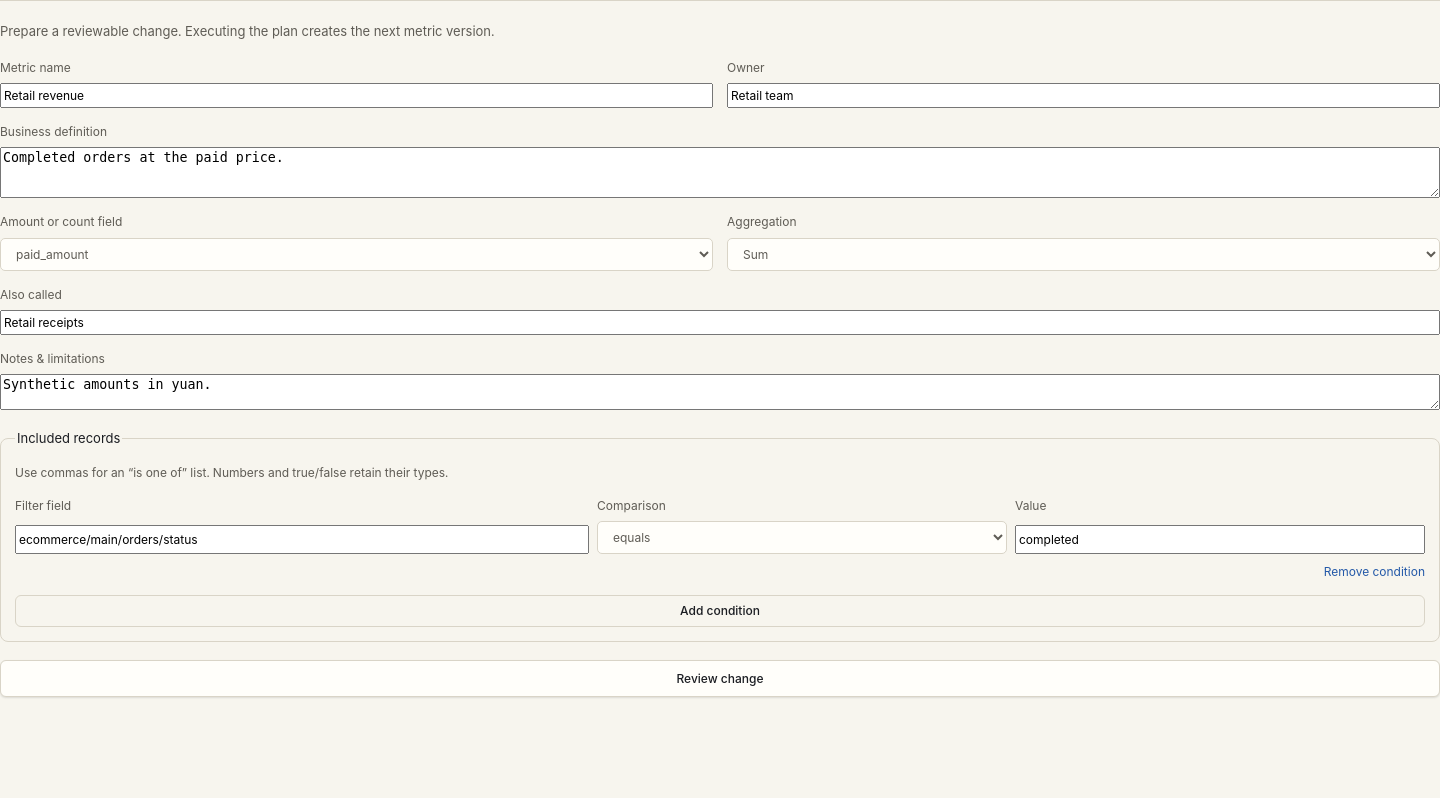
Test: prepares a changed measure for review and executes only when the plan is confirmed
Select "list_amount" in the dropdown labelled "Amount or count field" at (356, 254), box 0,238 -> 713,270
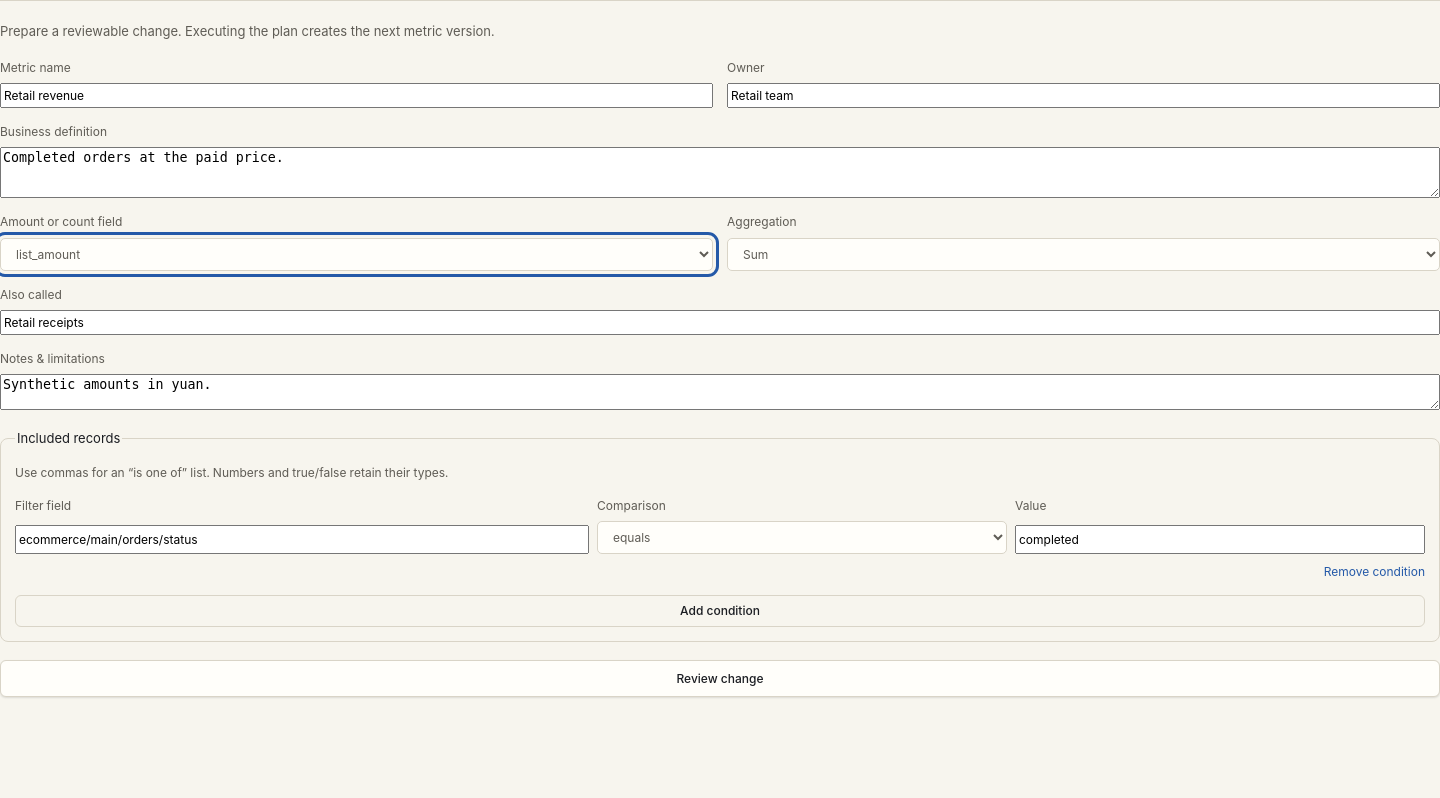
Replace the text in the field labelled "Also called" with "Retail total, Online receipts" at (720, 322), box 0,310 -> 1439,335
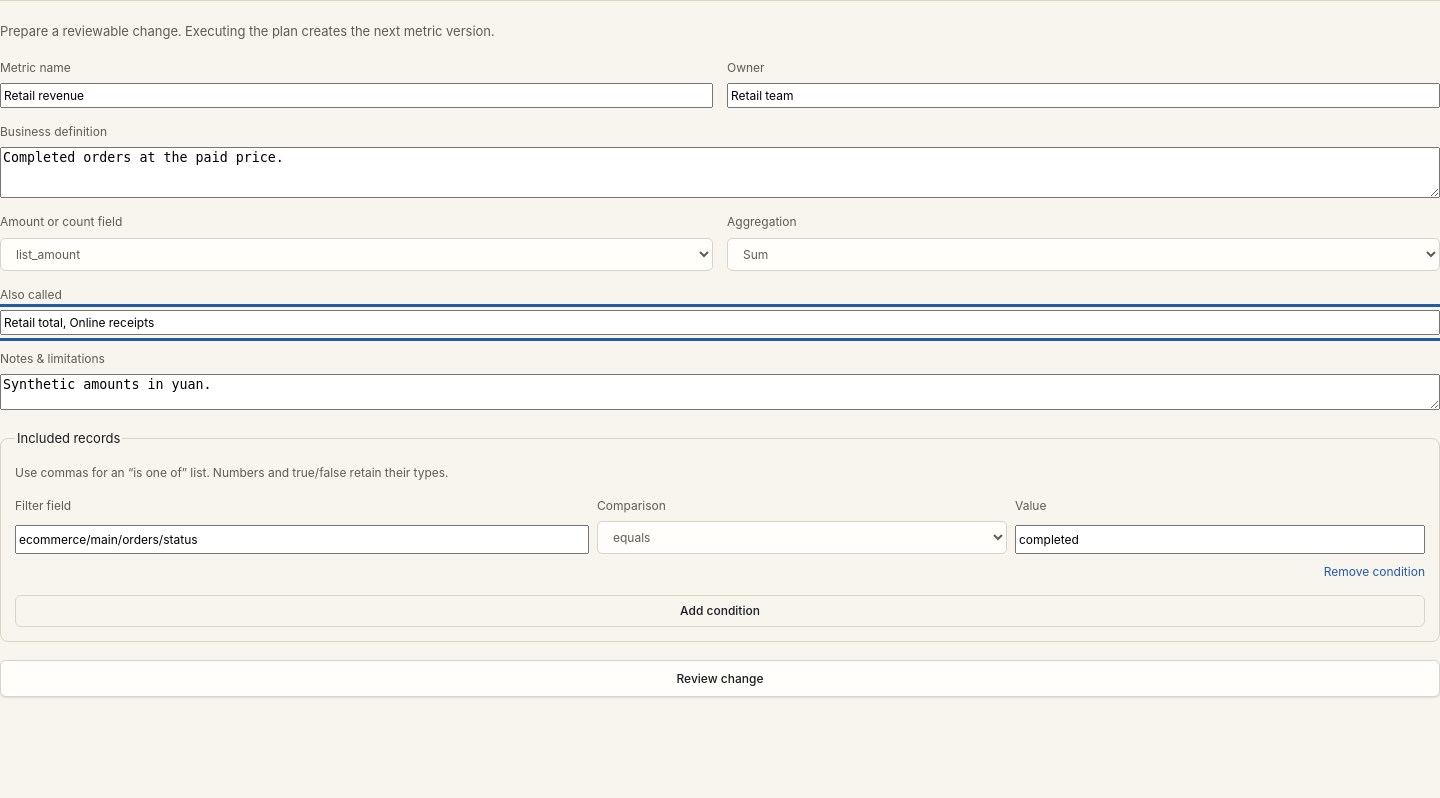
Replace the text in the field labelled "Value" with "12.5" at (1220, 540), box 1015,525 -> 1425,554
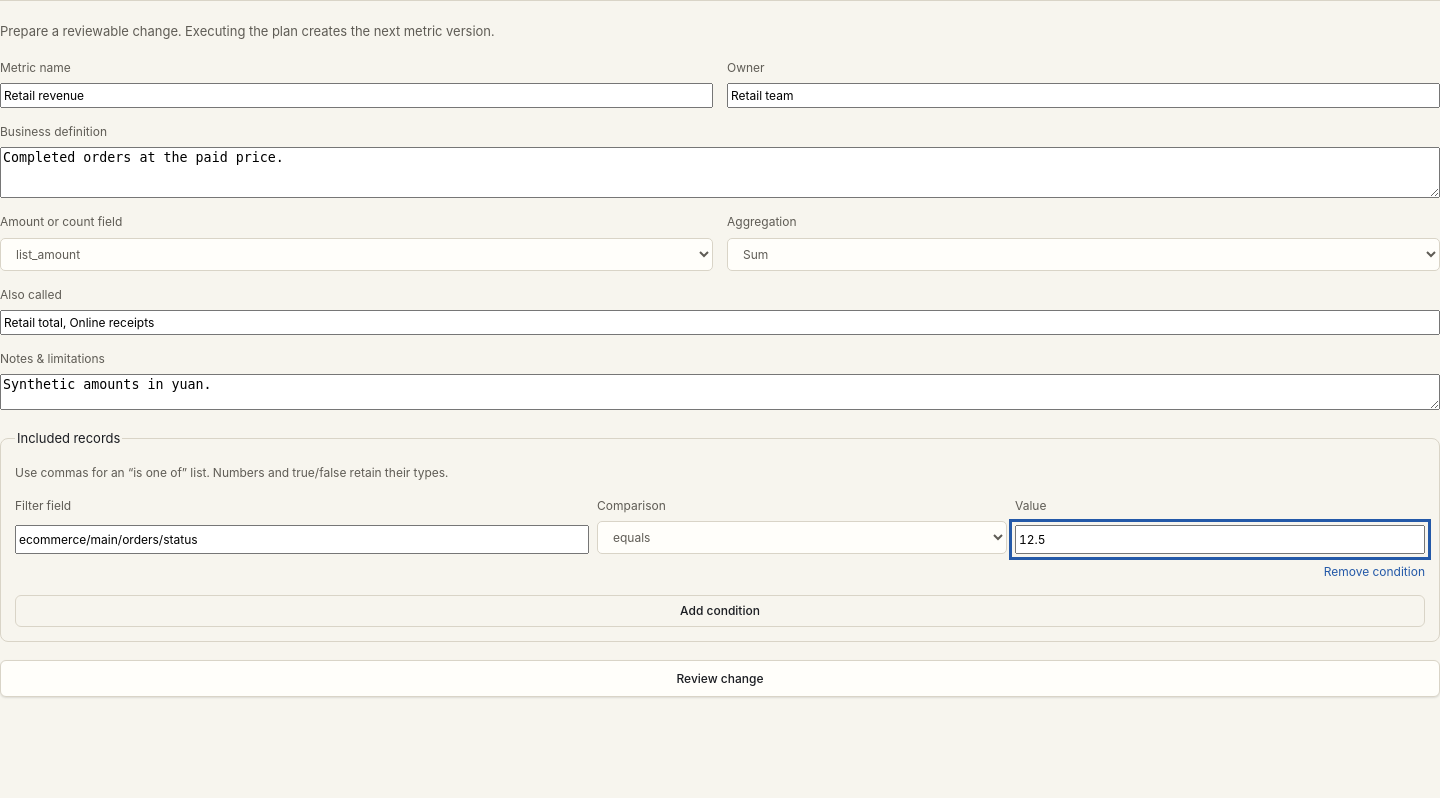
Click the button "Review change" at (720, 678), box 0,660 -> 1439,697
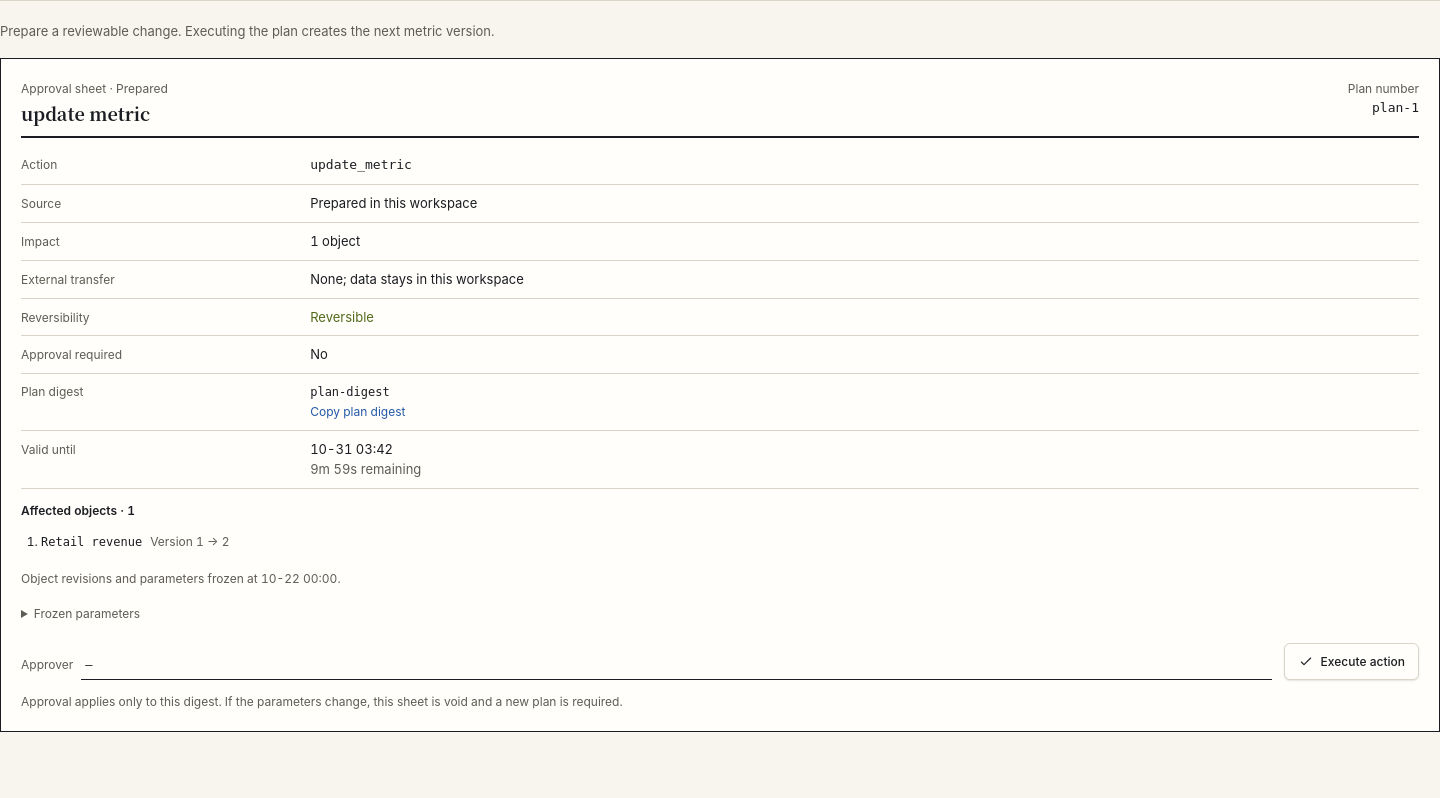
Now the element named "Action plan: update_metric" is shown
Click the button "Execute action" at (1351, 662), box 1284,643 -> 1419,680
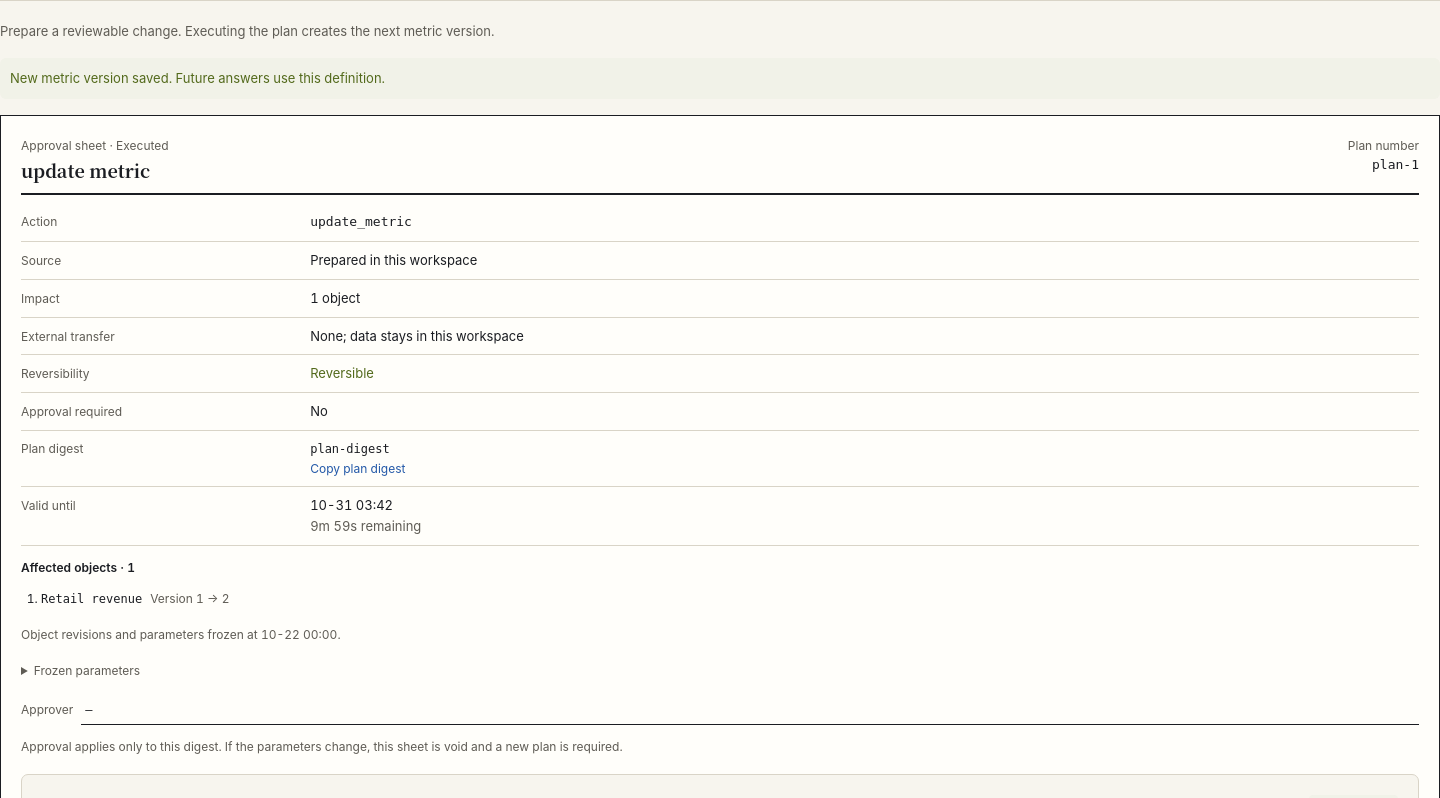
Now the text "New metric version saved. Future answers use this definition." is shown, box 0,58 -> 1439,99
